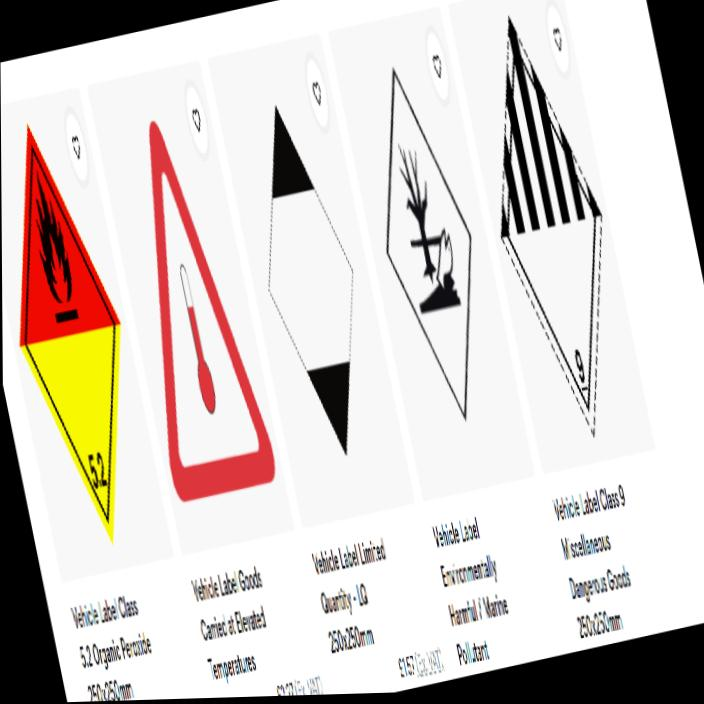defibrillator sign: (19, 128, 119, 540)
elevator doors: (500, 16, 601, 434)
